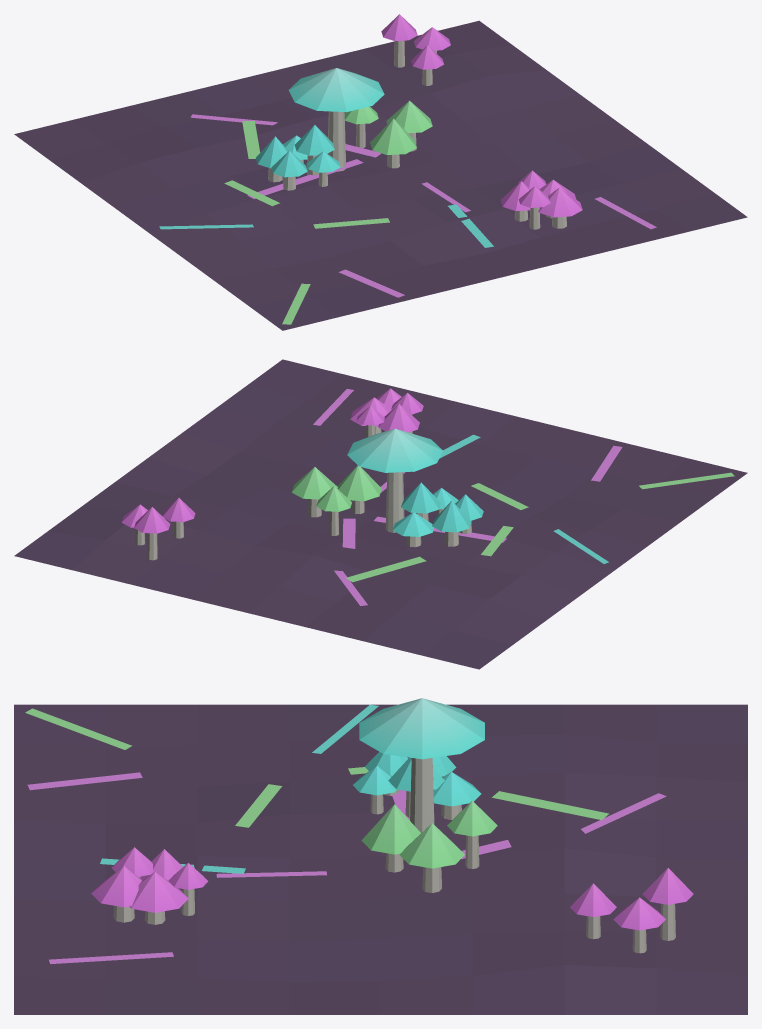
Rendered from fungal_lowpoly.glb.
3 renders of one model, top to bottom at view 1: azimuth 30°, elevation 25°; view 2: azimuth 150°, elevation 25°; view 3: azimuth 270°, elevation 25°, orthographic. The views are drawn at different scales.
Parts seen in each view (by area): view 1: FungalTile; view 2: FungalTile; view 3: FungalTile.
Part boxes in pixels (x1=…): FungalTile: x1=14, y1=14, x2=747, y2=330; FungalTile: x1=14, y1=359, x2=747, y2=669; FungalTile: x1=14, y1=698, x2=747, y2=1014.
Size of the model in its own units: 1 by 0.2235 by 1.
